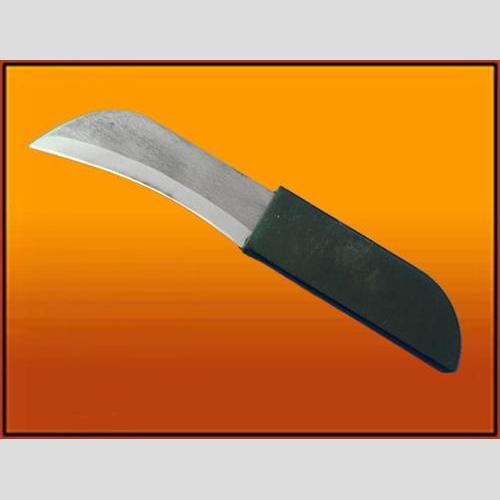knief: (35, 114, 464, 368)
